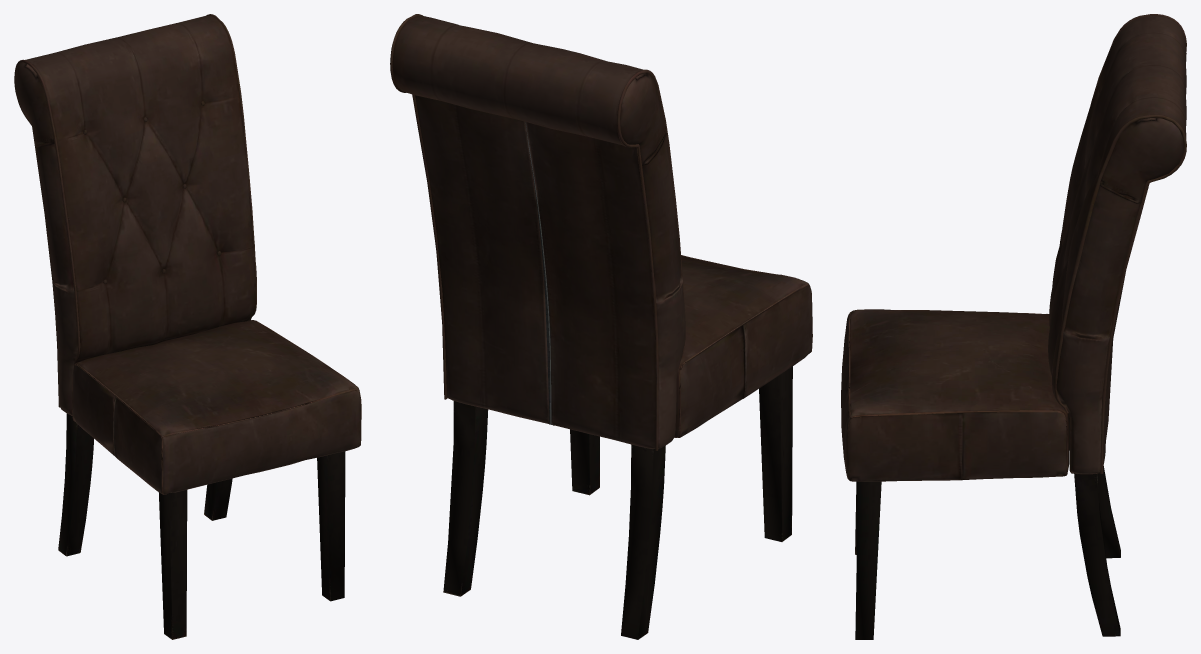
File: dining_chair_02.glb
The picture shows the model from 3 angles, left to right: view 1: azimuth 30°, elevation 25°; view 2: azimuth 150°, elevation 25°; view 3: azimuth 270°, elevation 25°; orthographic projection. The views are drawn at different scales.
Visible parts, largest first — view 1: dining_chair_02; view 2: dining_chair_02; view 3: dining_chair_02.
Boxes of the visible parts, x1,y1,x2,y2 form: dining_chair_02: [14, 14, 361, 639]; dining_chair_02: [390, 14, 812, 639]; dining_chair_02: [841, 14, 1186, 639].
Size of the model in its own units: 0.4336 by 0.9728 by 0.5765.
Materials: 1 (1 with a texture image).
